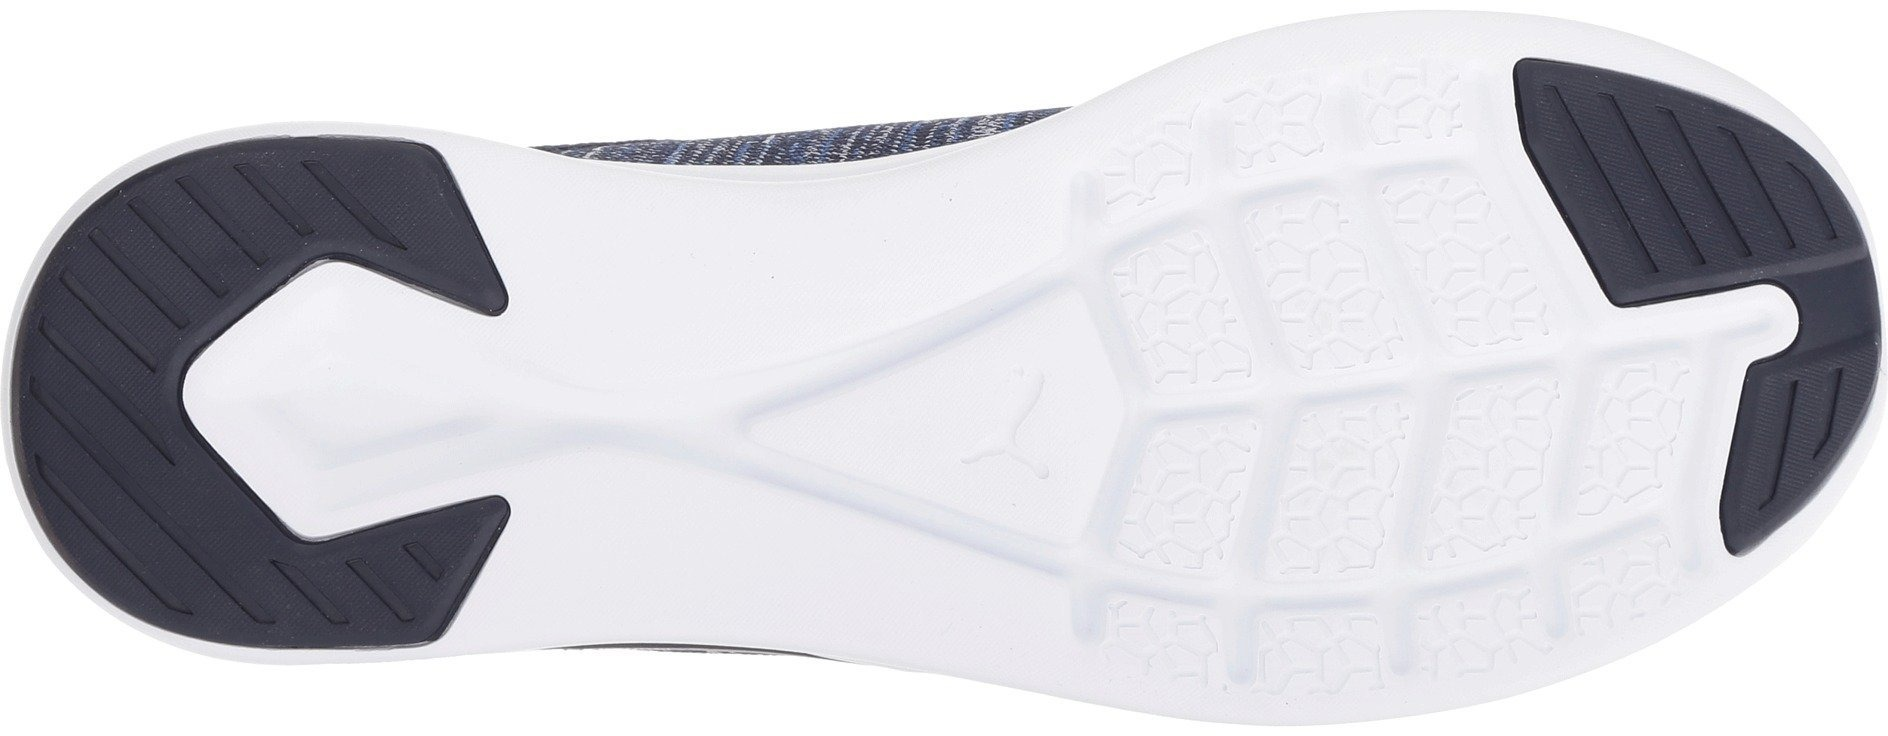other: (556, 188, 734, 351), (535, 473, 700, 626)
quad: (1111, 149, 1583, 610)
ribbon: (542, 338, 725, 500)
triangle: (684, 296, 958, 566)
